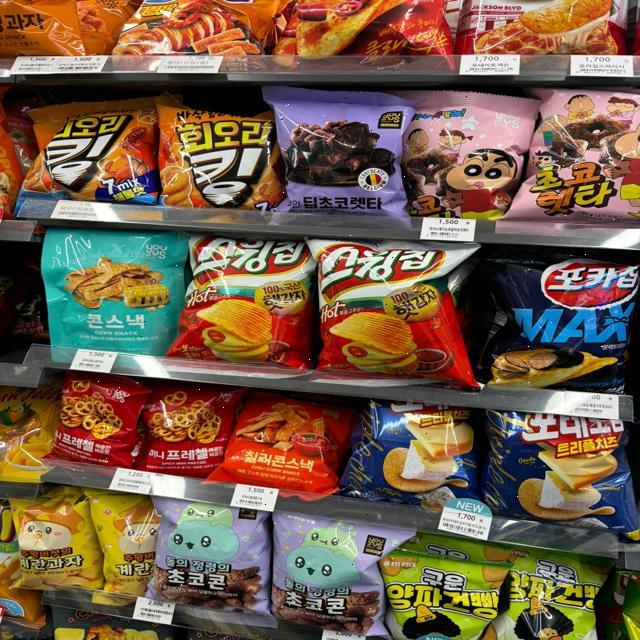product: (313, 234, 465, 382), (495, 251, 633, 393), (276, 85, 407, 222), (187, 226, 311, 367), (43, 229, 177, 351), (498, 411, 634, 530), (149, 497, 275, 621), (27, 92, 157, 209), (409, 96, 524, 223), (529, 91, 640, 222), (275, 514, 393, 636), (157, 104, 281, 215), (359, 392, 481, 501), (386, 554, 502, 640), (60, 379, 141, 466), (151, 384, 229, 470)
